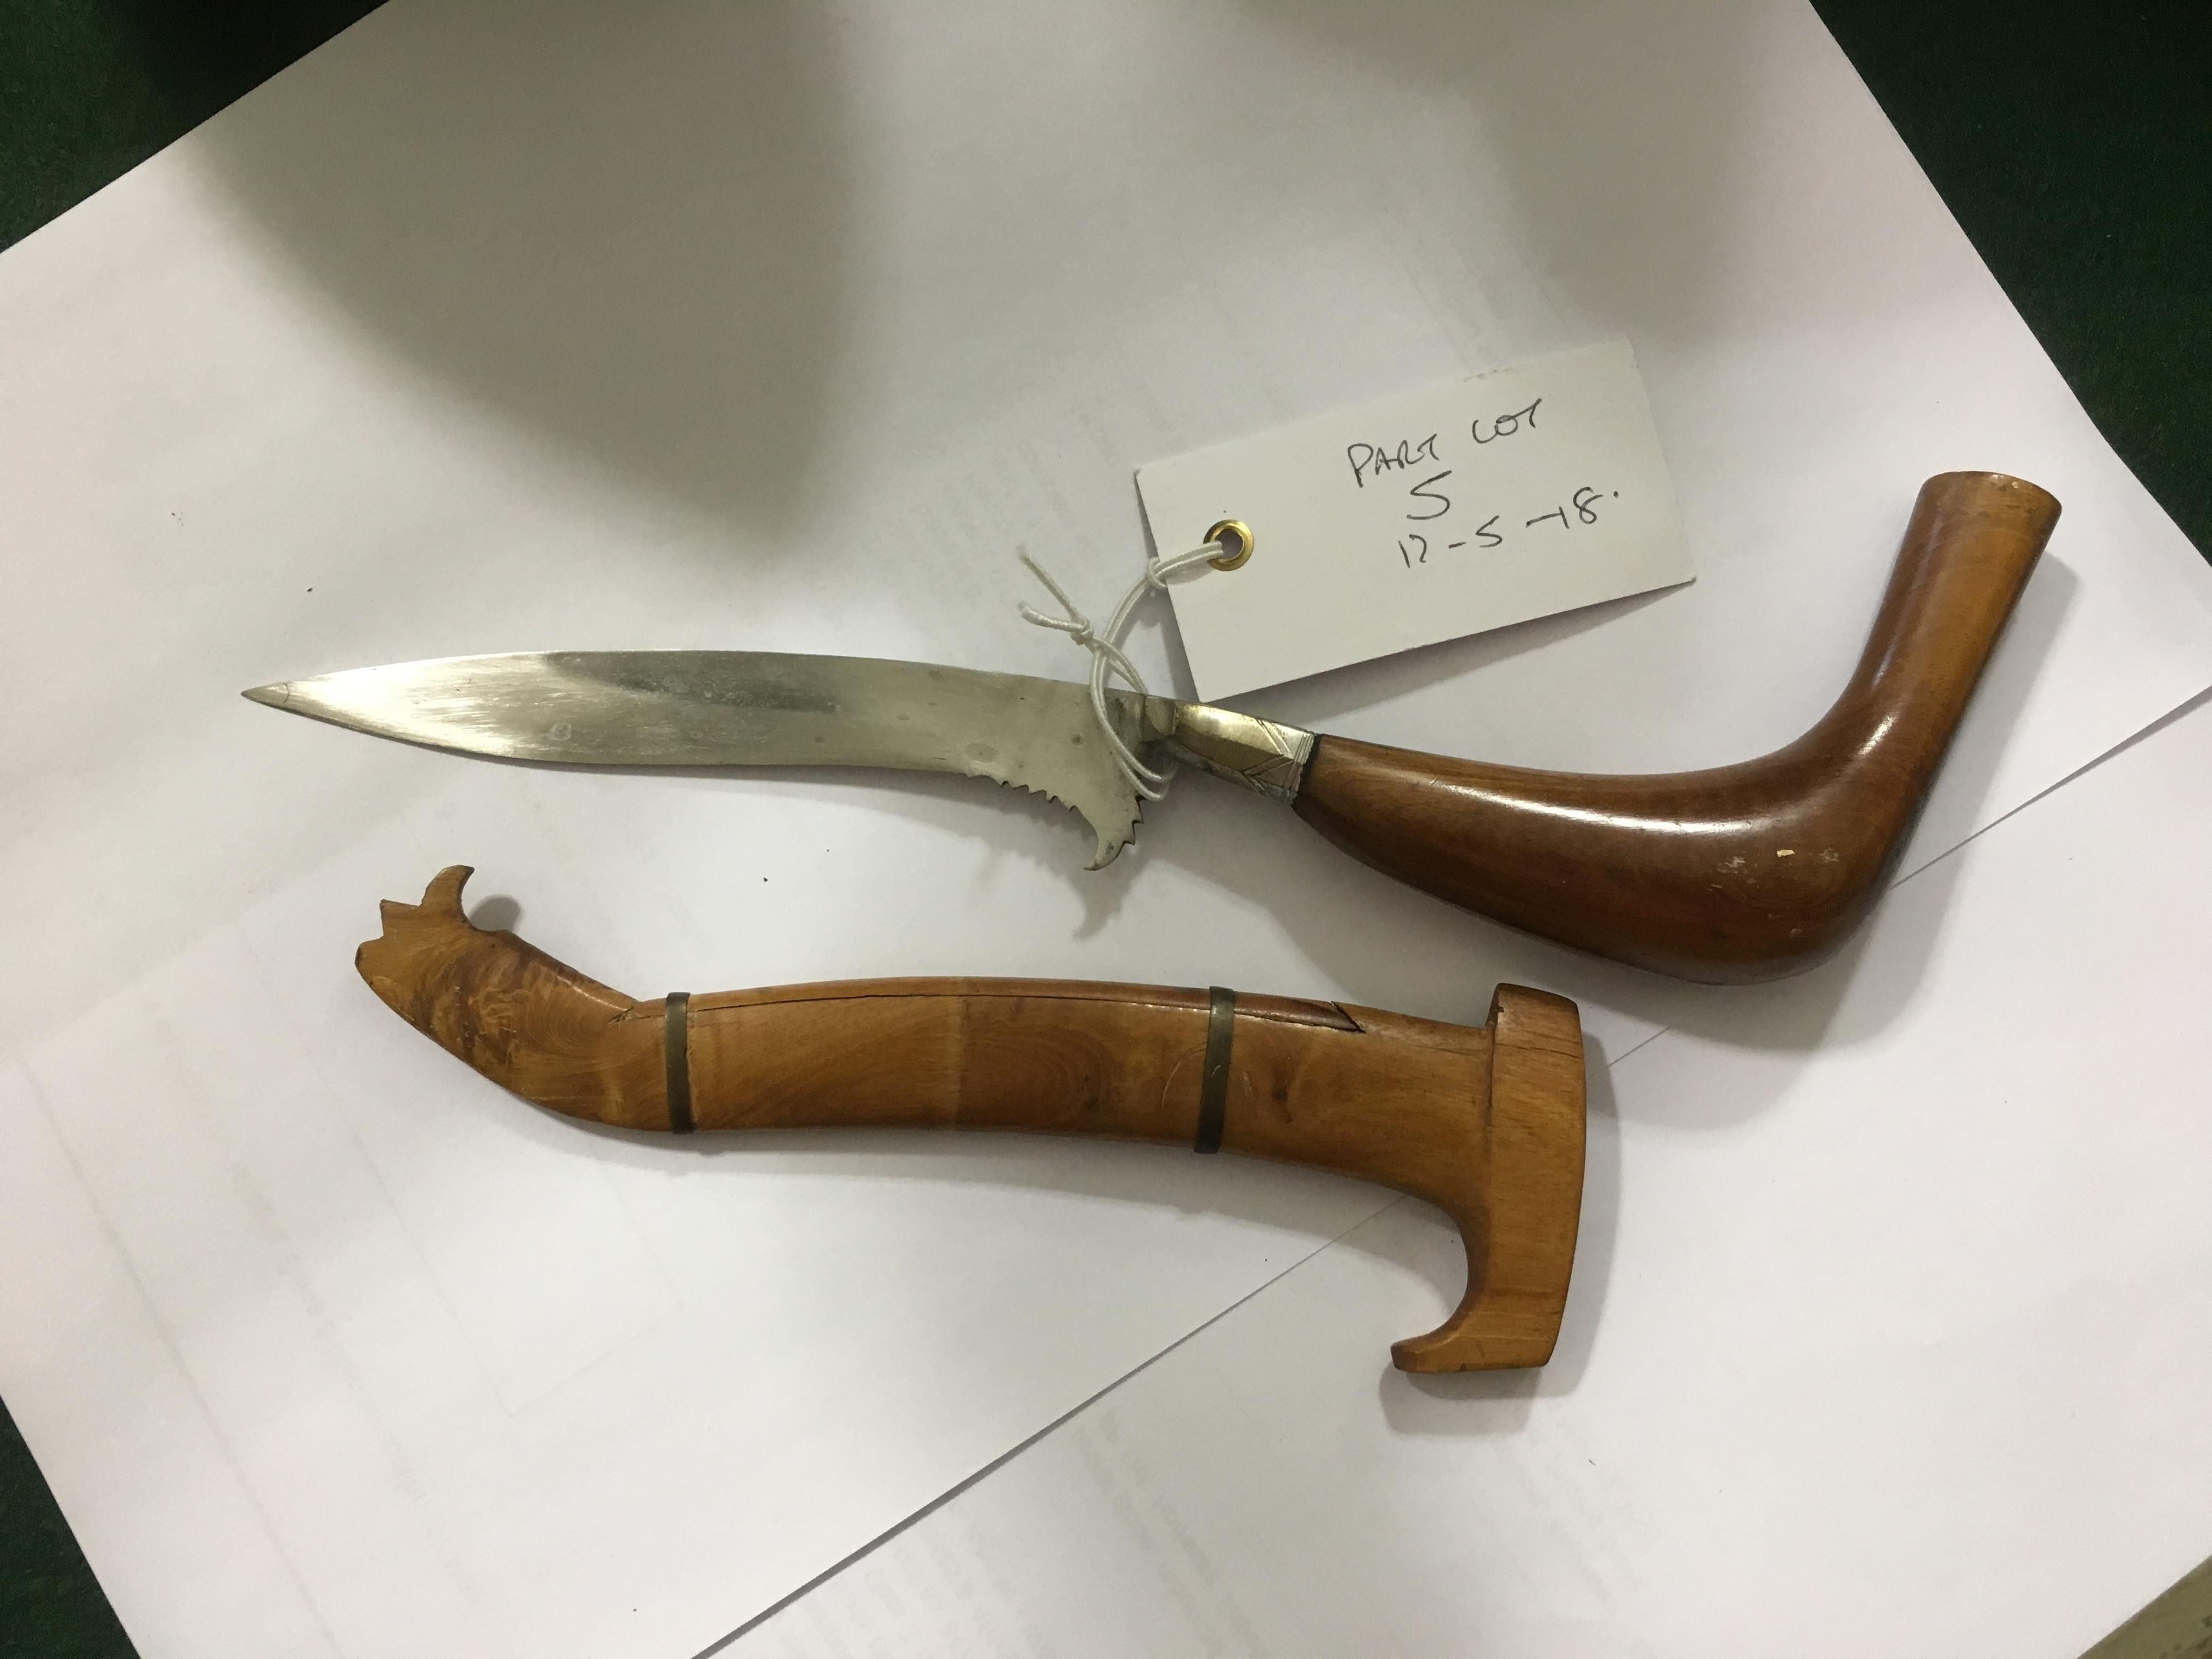facao: (246, 473, 2055, 978)
